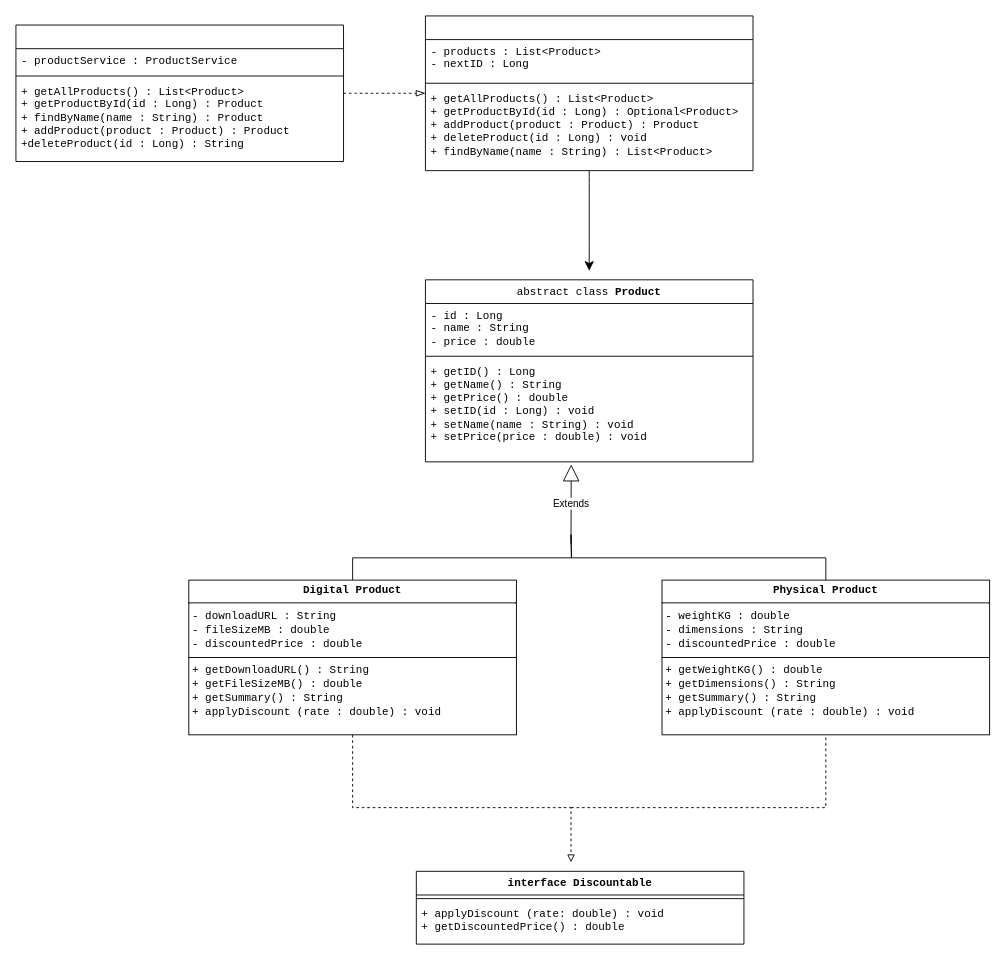
The diagram is 1006 pixels wide and 963 high, and some of its shapes have lost their labels. Here are the shapes that lost their labels. From the top down, the box of each, then its label:
(15, 24, 344, 162): ProductController
(425, 15, 753, 171): ProductService
